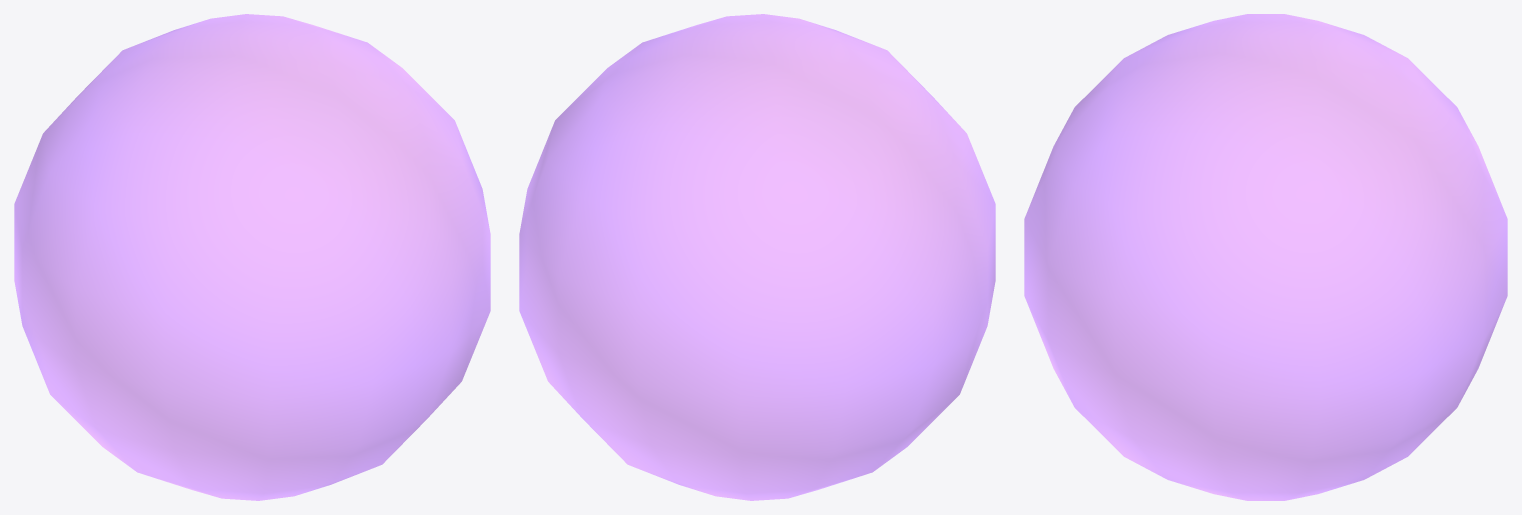
Rendered from poison_bubble.glb.
3 views of the same model, side by side, from view 1: azimuth 30°, elevation 25°; view 2: azimuth 150°, elevation 25°; view 3: azimuth 270°, elevation 25° (orthographic).
Visible parts, largest first — view 1: poison_bubble; view 2: poison_bubble; view 3: poison_bubble.
Part boxes in pixels (left/top/right/bottom): poison_bubble: left=14, top=14, right=490, bottom=500; poison_bubble: left=519, top=14, right=995, bottom=500; poison_bubble: left=1024, top=14, right=1507, bottom=500.
Bounding box in the file's own units: 0.1152 × 0.12 × 0.1182.
